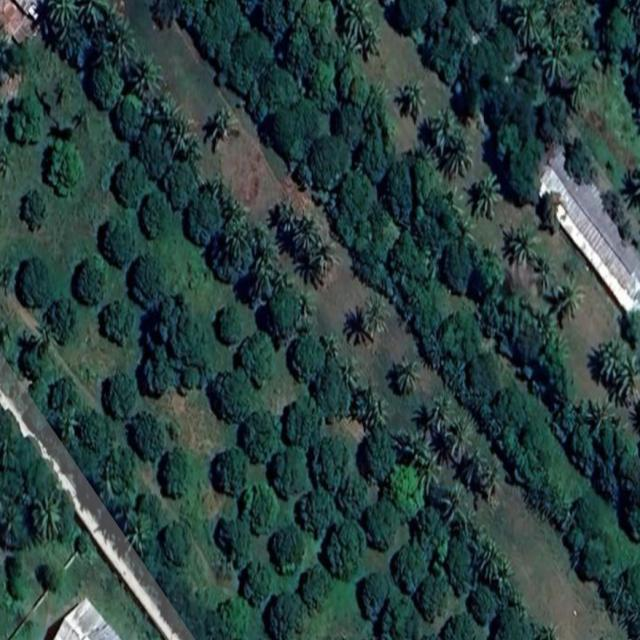Tree: (152, 293, 212, 377), (499, 135, 548, 207), (269, 100, 320, 163), (436, 307, 488, 366), (597, 418, 640, 486), (398, 272, 445, 332), (495, 419, 539, 483), (326, 515, 365, 580), (381, 160, 418, 227), (260, 587, 306, 640), (312, 360, 353, 419), (491, 81, 532, 139), (338, 172, 374, 238), (599, 9, 639, 68), (309, 132, 352, 186), (483, 288, 530, 337), (238, 332, 278, 389), (460, 344, 502, 398), (389, 227, 429, 282), (238, 406, 278, 461), (309, 433, 346, 492), (356, 112, 389, 178), (231, 34, 276, 81), (211, 366, 251, 418), (268, 446, 310, 495), (187, 186, 222, 244), (537, 354, 578, 403), (420, 194, 460, 244), (126, 254, 167, 302), (506, 222, 544, 273), (437, 237, 472, 292), (355, 214, 395, 262), (112, 90, 148, 143), (268, 282, 300, 341), (384, 0, 430, 41), (387, 469, 421, 524), (422, 27, 464, 71), (243, 484, 277, 538), (282, 396, 318, 446), (268, 521, 303, 572), (137, 124, 171, 176), (283, 26, 315, 80), (112, 157, 148, 205), (358, 250, 395, 296), (305, 231, 337, 284), (130, 410, 162, 463), (358, 429, 391, 480), (466, 389, 500, 438), (101, 215, 135, 263), (604, 576, 636, 627), (549, 274, 586, 318), (489, 382, 526, 426), (219, 518, 249, 572), (297, 486, 332, 532), (428, 102, 460, 152), (416, 509, 448, 559), (586, 520, 618, 570), (511, 0, 543, 50), (265, 64, 299, 111), (490, 602, 532, 640), (570, 418, 598, 474), (210, 104, 244, 150), (360, 568, 390, 620), (207, 235, 240, 282), (416, 322, 447, 372), (296, 564, 328, 612), (365, 498, 397, 546), (305, 59, 335, 110), (130, 51, 160, 102), (462, 446, 495, 492), (237, 562, 270, 608), (196, 32, 232, 74), (542, 36, 571, 88), (260, 1, 292, 48), (439, 5, 473, 49), (105, 369, 136, 417), (379, 591, 410, 639), (441, 133, 474, 178), (214, 447, 247, 492), (207, 0, 243, 41), (394, 540, 426, 586), (290, 333, 320, 382), (474, 36, 504, 85), (178, 1, 212, 44), (164, 111, 195, 158), (142, 192, 171, 242), (89, 62, 119, 110), (160, 518, 191, 564), (292, 210, 322, 257), (141, 345, 167, 399), (363, 291, 388, 347), (594, 339, 625, 384), (471, 172, 501, 218), (107, 19, 133, 72), (446, 540, 472, 593), (214, 183, 241, 234), (411, 155, 439, 204), (332, 102, 361, 149), (415, 443, 444, 490), (78, 258, 105, 308), (418, 571, 445, 621), (540, 98, 568, 146), (452, 79, 484, 121), (166, 160, 195, 206), (83, 412, 113, 456), (132, 492, 164, 532), (122, 512, 151, 556), (424, 397, 450, 445), (340, 0, 369, 43), (105, 300, 134, 342), (570, 492, 598, 535), (514, 324, 544, 364), (213, 303, 242, 344), (464, 582, 492, 624), (568, 139, 594, 184), (488, 23, 515, 66), (399, 428, 429, 466), (355, 384, 385, 422), (540, 188, 567, 230), (439, 355, 467, 395), (580, 541, 608, 581), (567, 67, 593, 110), (158, 453, 185, 494), (530, 475, 557, 516), (252, 244, 276, 290), (445, 420, 470, 464), (460, 42, 485, 86), (434, 51, 464, 87), (109, 451, 138, 487), (150, 80, 175, 121), (530, 251, 556, 290), (394, 352, 416, 398), (276, 195, 300, 237), (614, 357, 640, 395), (341, 480, 367, 518), (401, 82, 429, 117), (516, 56, 544, 90), (548, 488, 572, 527), (442, 485, 466, 524), (438, 611, 470, 640), (489, 554, 513, 590), (445, 181, 467, 220), (225, 225, 251, 258), (367, 79, 392, 113), (554, 396, 579, 430), (474, 536, 496, 574), (79, 2, 109, 29), (589, 399, 615, 430), (536, 307, 559, 341), (619, 309, 640, 346), (361, 23, 383, 58), (176, 357, 198, 392), (478, 240, 502, 272), (465, 1, 489, 33), (418, 0, 446, 27), (602, 462, 620, 503), (547, 330, 570, 362), (243, 75, 263, 111), (350, 72, 369, 108), (622, 563, 640, 599), (333, 66, 355, 95), (154, 2, 176, 30), (340, 33, 362, 60), (252, 98, 270, 125), (252, 227, 270, 254), (324, 331, 341, 359), (566, 527, 586, 550), (626, 169, 640, 198), (535, 620, 555, 640)
